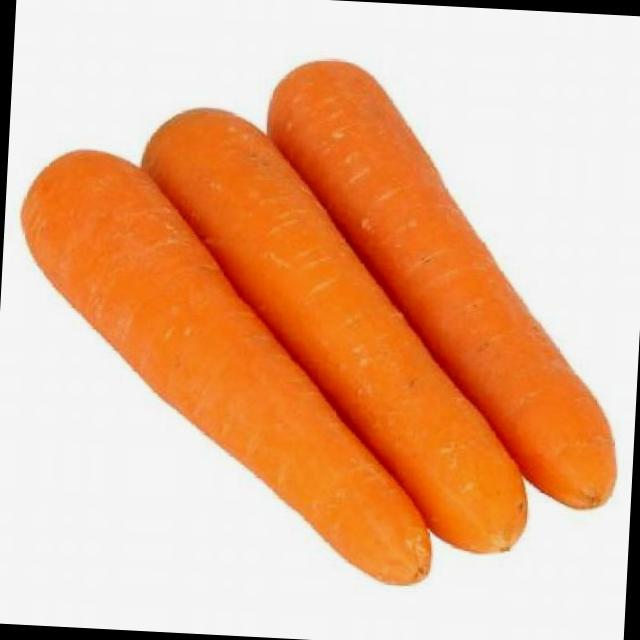carrot: (22, 151, 430, 583), (143, 111, 526, 551), (268, 62, 616, 508)
